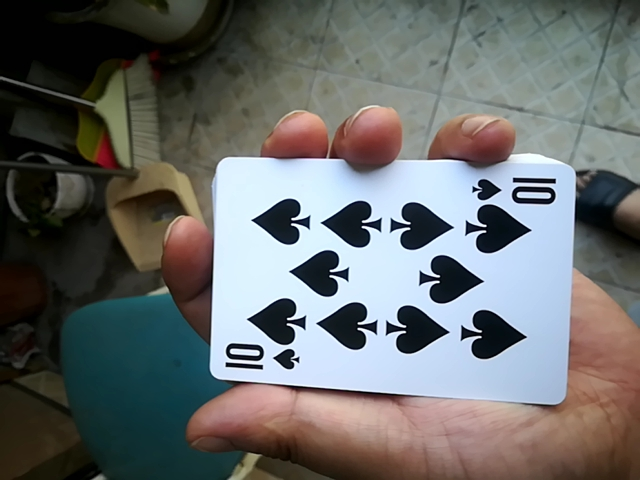ht 10: (205, 158, 588, 400)
